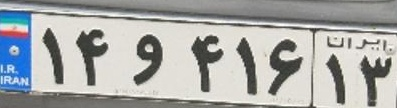character: (260, 34, 305, 103), (68, 21, 112, 90), (184, 29, 225, 98), (356, 49, 397, 108), (128, 27, 165, 92), (229, 29, 259, 99), (36, 22, 66, 90), (320, 50, 351, 108)
